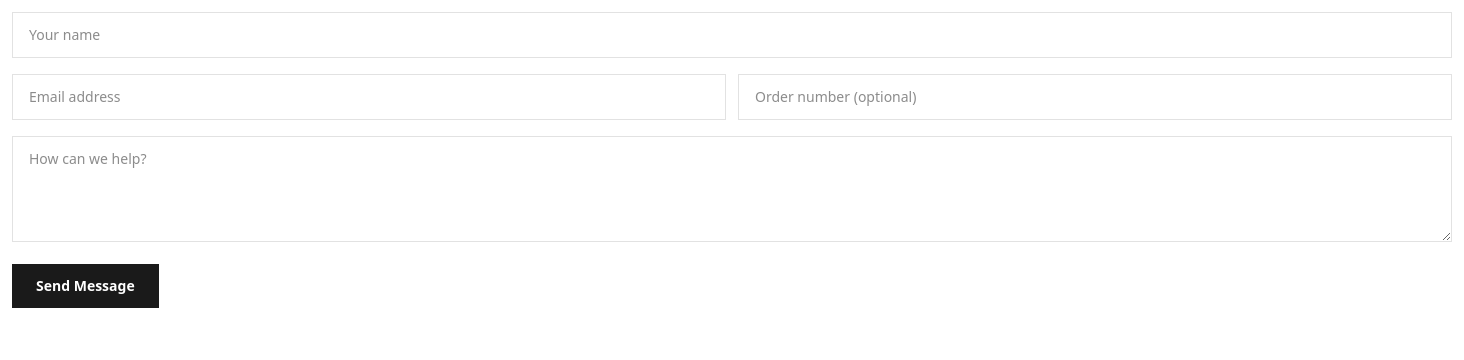
Test case: ContactForm › a non-JSON 504 page shows an error, never success, and keeps the message
Type "Asha" into the field labelled "Your name" at [732, 35], box x1=12 y1=12 x2=1452 y2=58
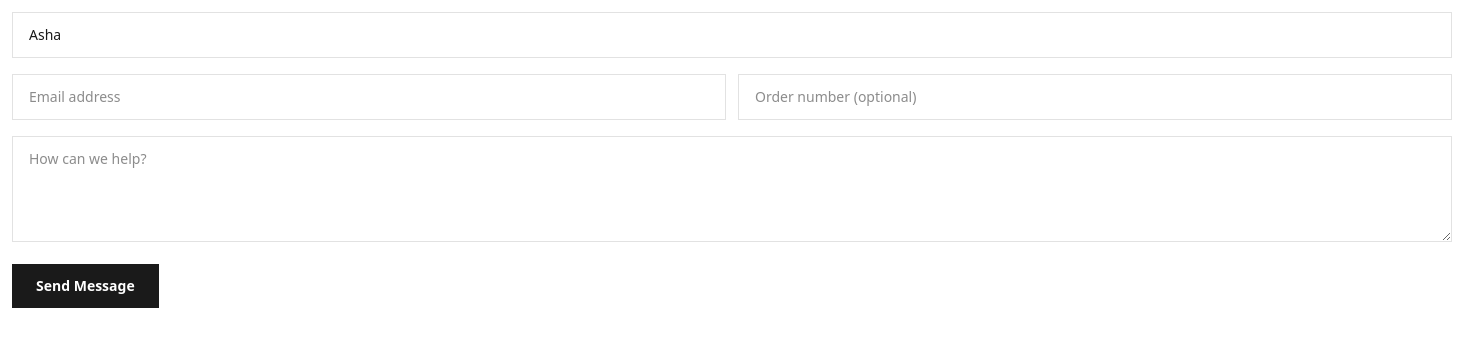
Type "asha@example.com" into the field labelled "Email address" at [369, 97], box x1=12 y1=74 x2=726 y2=120
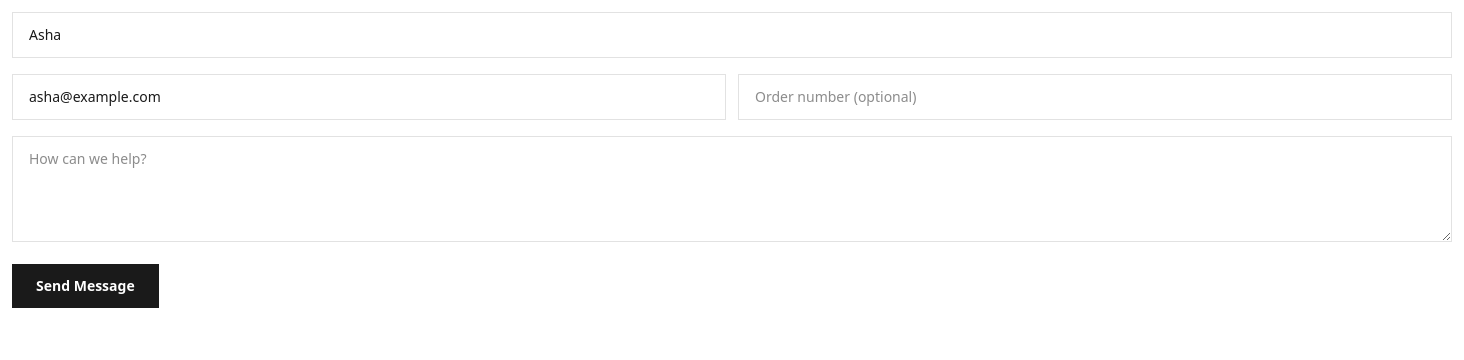
Type "Hello" into the text box labelled "How can we help?" at [732, 189], box x1=12 y1=136 x2=1452 y2=242
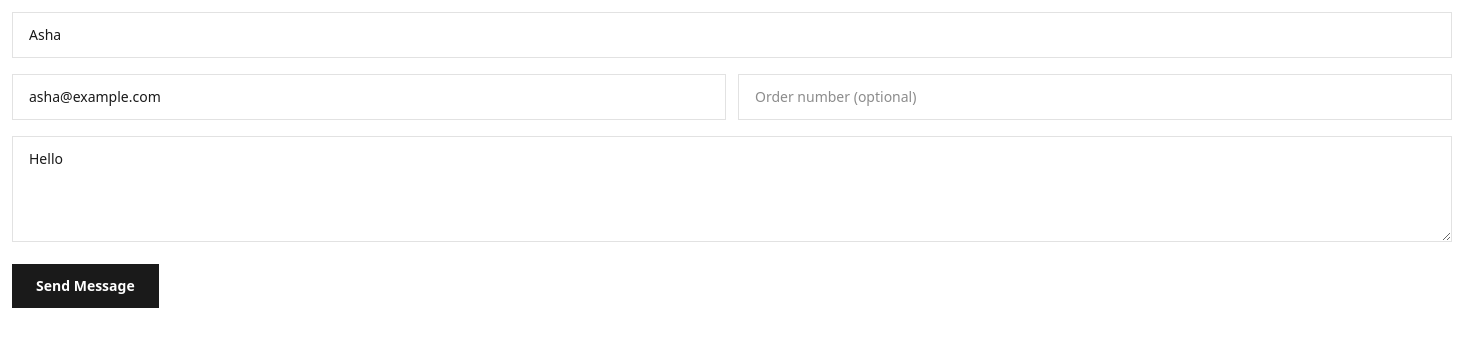
Click the button "Send Message" at [85, 286], box x1=12 y1=264 x2=159 y2=308
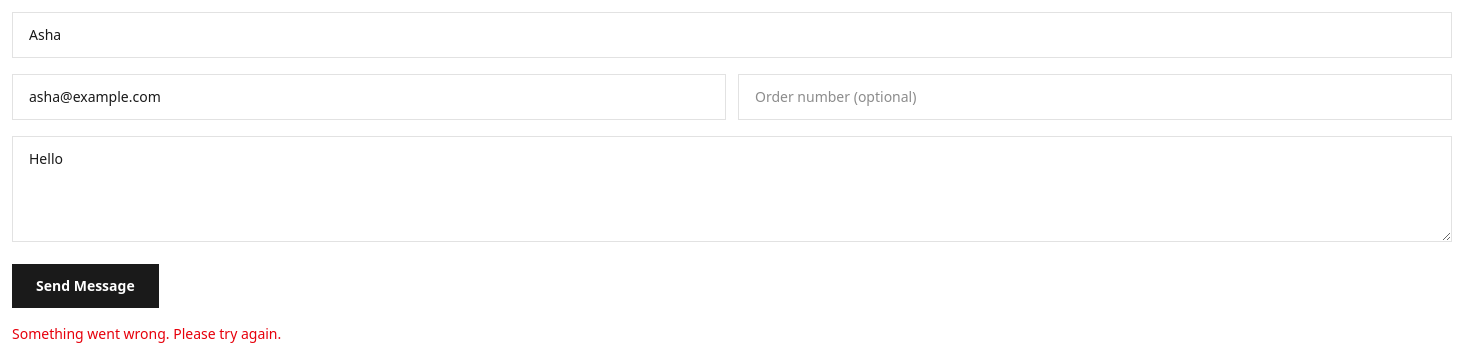
Expected: the message reads "Something went wrong. Please try again.", x1=12 y1=324 x2=281 y2=343
